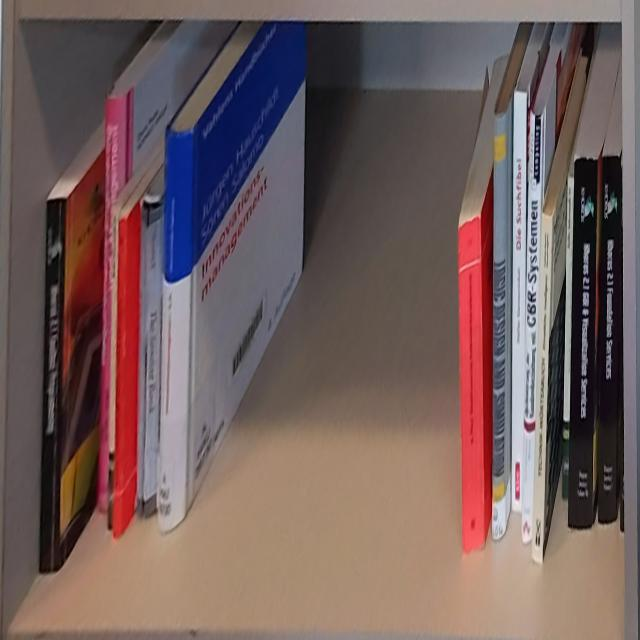Book Spine: (156, 125, 194, 535), (98, 93, 130, 518), (39, 195, 70, 574), (569, 154, 598, 530), (521, 110, 545, 547), (458, 217, 484, 558), (531, 214, 552, 562), (599, 157, 618, 524), (511, 91, 527, 515), (491, 112, 506, 541), (144, 218, 162, 521), (106, 207, 122, 530), (113, 218, 127, 538), (136, 205, 150, 519), (562, 175, 574, 498)
